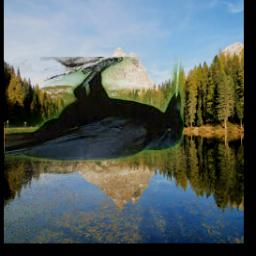Crow: (6, 58, 185, 163)
